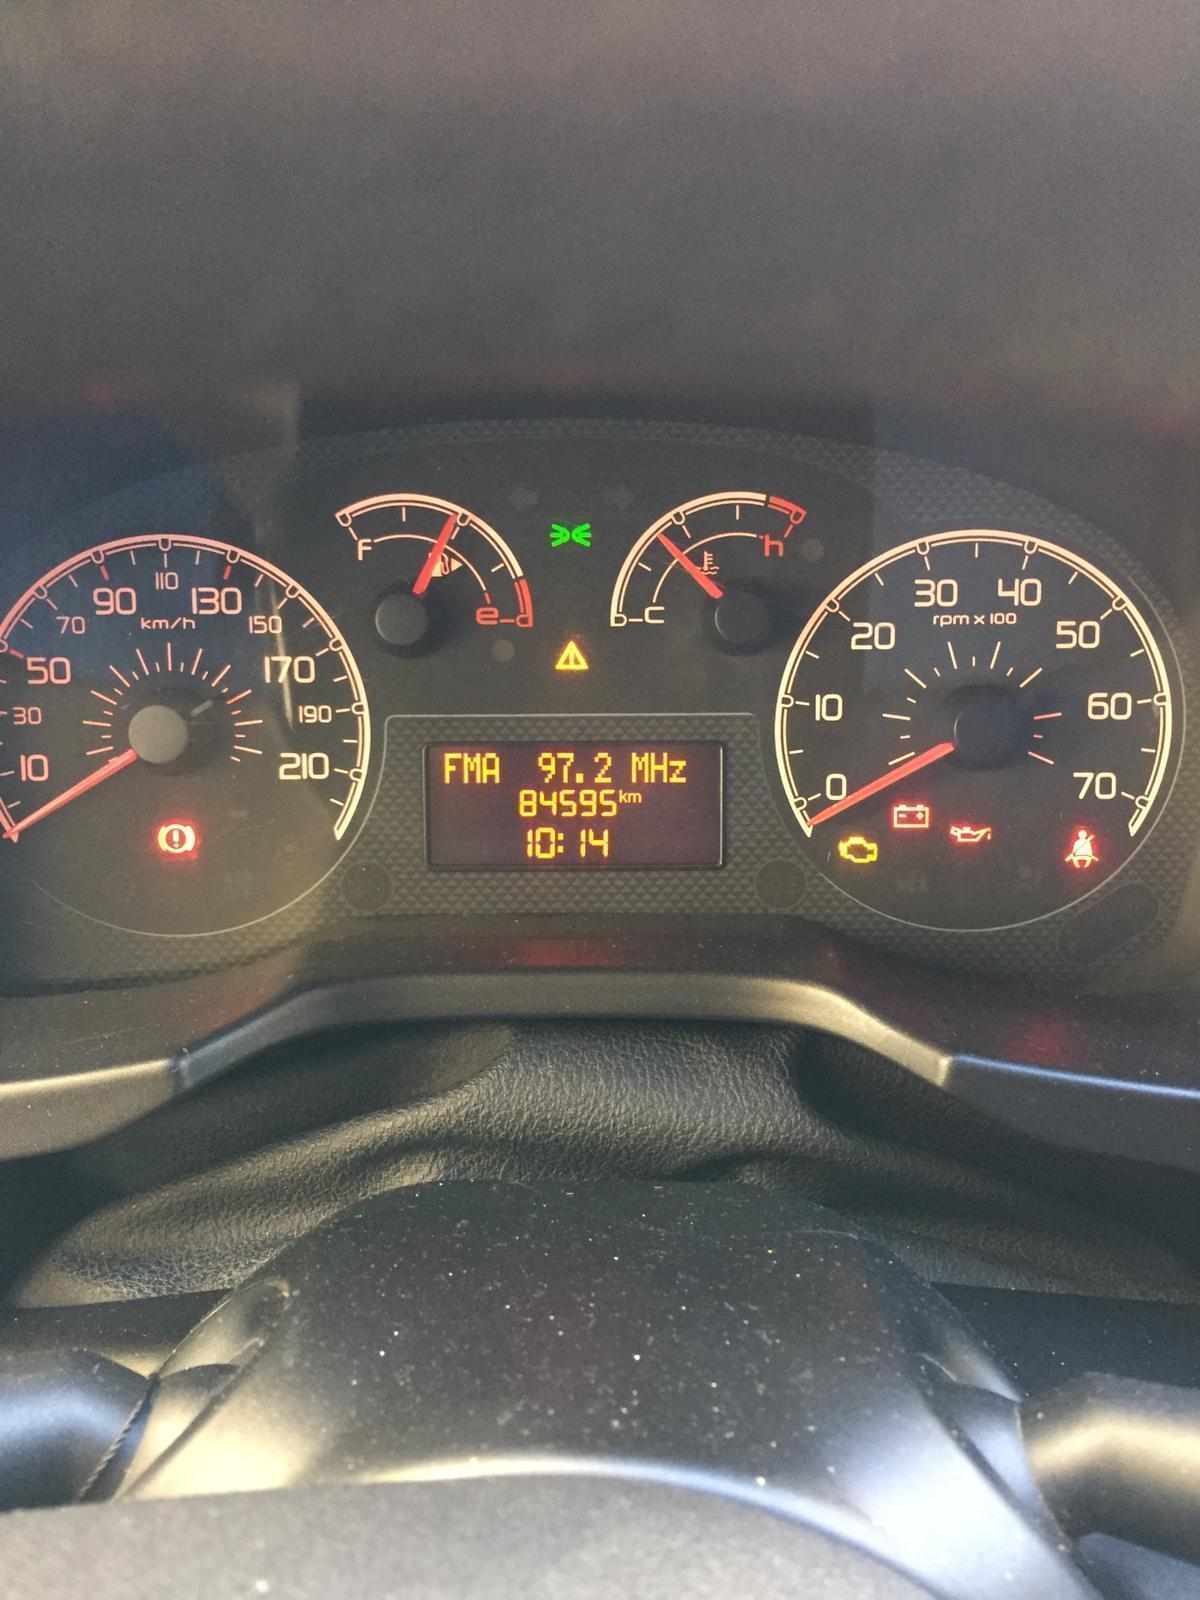,: (575, 770, 585, 785)
0: (534, 826, 556, 860)
1: (524, 826, 534, 859), (577, 826, 586, 858)
2: (592, 750, 614, 784)
4: (587, 826, 610, 858), (538, 789, 558, 818)
5: (558, 787, 575, 818), (600, 787, 616, 816)
7: (556, 750, 575, 784)
8: (518, 787, 536, 818)
9: (577, 786, 597, 818), (537, 750, 555, 784)
X: (482, 751, 500, 787), (630, 751, 649, 786), (463, 752, 482, 786), (650, 750, 668, 785), (442, 751, 461, 784), (668, 758, 689, 784), (616, 787, 629, 805), (628, 790, 642, 805), (557, 831, 563, 853)
odometer: (429, 729, 732, 879)
